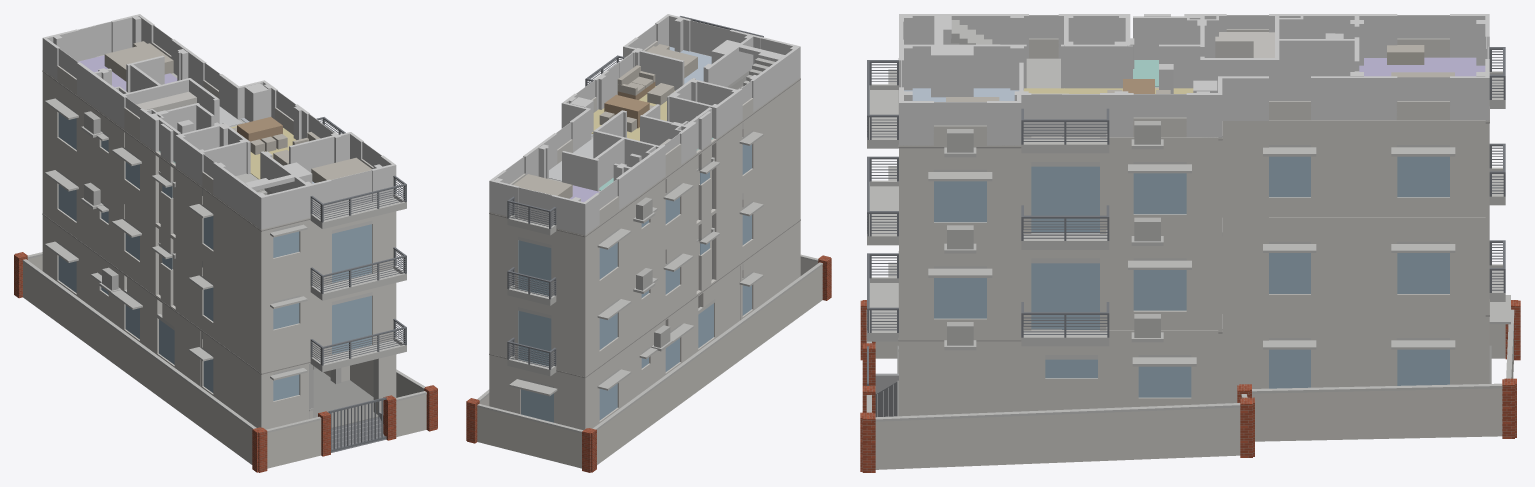
3 renders of one model, left to right at view 1: azimuth 30°, elevation 25°; view 2: azimuth 150°, elevation 25°; view 3: azimuth 270°, elevation 25°, orthographic. The views are drawn at different scales.
Parts seen in each view (by area): view 1: BOUNDARY#226, 1ST_FLOOR/wall#310, 2ND_FLOOR/wall#618, GROUND_FLOOR/core_wall#122, BOUNDARY#184, PLINTH#0, 2ND_FLOOR/wall#610, 1ST_FLOOR/wall#302, 1ST_FLOOR/wall/glass#307, 2ND_FLOOR/wall/glass#615, 2ND_FLOOR/wall#1700, 1ST_FLOOR/wall#1694 (+82 smaller); view 2: BOUNDARY#226, BOUNDARY#222, 1ST_FLOOR/wall#310, 2ND_FLOOR/wall#618, 2ND_FLOOR/wall#699, 1ST_FLOOR/wall#391, GROUND_FLOOR/core_wall#122, 2ND_FLOOR/wall#1700, 1ST_FLOOR/wall#1694, 2ND_FLOOR/wall#705, 1ST_FLOOR/wall#397, GROUND_FLOOR/flat_wall#104 (+68 smaller); view 3: BOUNDARY#210, BOUNDARY#218, GROUND_FLOOR/full_wall#165, 1ST_FLOOR/wall#382, 2ND_FLOOR/wall#690, GROUND_FLOOR/flat_wall#95, 2ND_FLOOR/wall#682, 1ST_FLOOR/wall#374, 3RD_FLOOR/wall#1006, GROUND_FLOOR/flat_wall#87, 1ST_FLOOR/wall#390, 2ND_FLOOR/wall#698 (+101 smaller).
Boxes of the visible parts, x1,y1,x2,y2 form: BOUNDARY#226: [23, 262, 252, 464]; 1ST_FLOOR/wall#310: [213, 269, 259, 370]; 2ND_FLOOR/wall#618: [213, 198, 259, 299]; GROUND_FLOOR/core_wall#122: [218, 344, 261, 427]; BOUNDARY#184: [267, 420, 321, 468]; PLINTH#0: [313, 380, 378, 428]; 2ND_FLOOR/wall#610: [299, 220, 331, 291]; 1ST_FLOOR/wall#302: [299, 292, 331, 362]; 1ST_FLOOR/wall/glass#307: [332, 295, 371, 354]; 2ND_FLOOR/wall/glass#615: [332, 224, 371, 282]; 2ND_FLOOR/wall#1700: [175, 170, 203, 256]; 1ST_FLOOR/wall#1694: [175, 242, 203, 328]; BOUNDARY#226: [597, 265, 822, 464]; BOUNDARY#222: [477, 407, 581, 468]; 1ST_FLOOR/wall#310: [752, 152, 798, 252]; 2ND_FLOOR/wall#618: [752, 82, 798, 182]; 2ND_FLOOR/wall#699: [551, 231, 586, 305]; 1ST_FLOOR/wall#391: [551, 301, 586, 375]; GROUND_FLOOR/core_wall#122: [758, 222, 800, 306]; 2ND_FLOOR/wall#1700: [713, 123, 742, 209]; 1ST_FLOOR/wall#1694: [713, 193, 742, 279]; 2ND_FLOOR/wall#705: [489, 215, 518, 288]; 1ST_FLOOR/wall#397: [489, 285, 518, 359]; GROUND_FLOOR/flat_wall#104: [554, 372, 586, 430]; BOUNDARY#210: [875, 407, 1240, 469]; BOUNDARY#218: [1252, 388, 1502, 441]; GROUND_FLOOR/full_wall#165: [899, 342, 1021, 416]; 1ST_FLOOR/wall#382: [1311, 221, 1397, 313]; 2ND_FLOOR/wall#690: [1311, 125, 1397, 216]; GROUND_FLOOR/flat_wall#95: [1311, 318, 1397, 387]; 2ND_FLOOR/wall#682: [1222, 124, 1268, 217]; 1ST_FLOOR/wall#374: [1222, 221, 1268, 313]; 3RD_FLOOR/wall#1006: [1311, 76, 1397, 120]; GROUND_FLOOR/flat_wall#87: [1222, 317, 1268, 403]; 1ST_FLOOR/wall#390: [1450, 221, 1485, 313]; 2ND_FLOOR/wall#698: [1450, 125, 1485, 216].
Size of the model in its own units: 8.06 by 11.1 by 18.89.
1 material, 1 textured.
